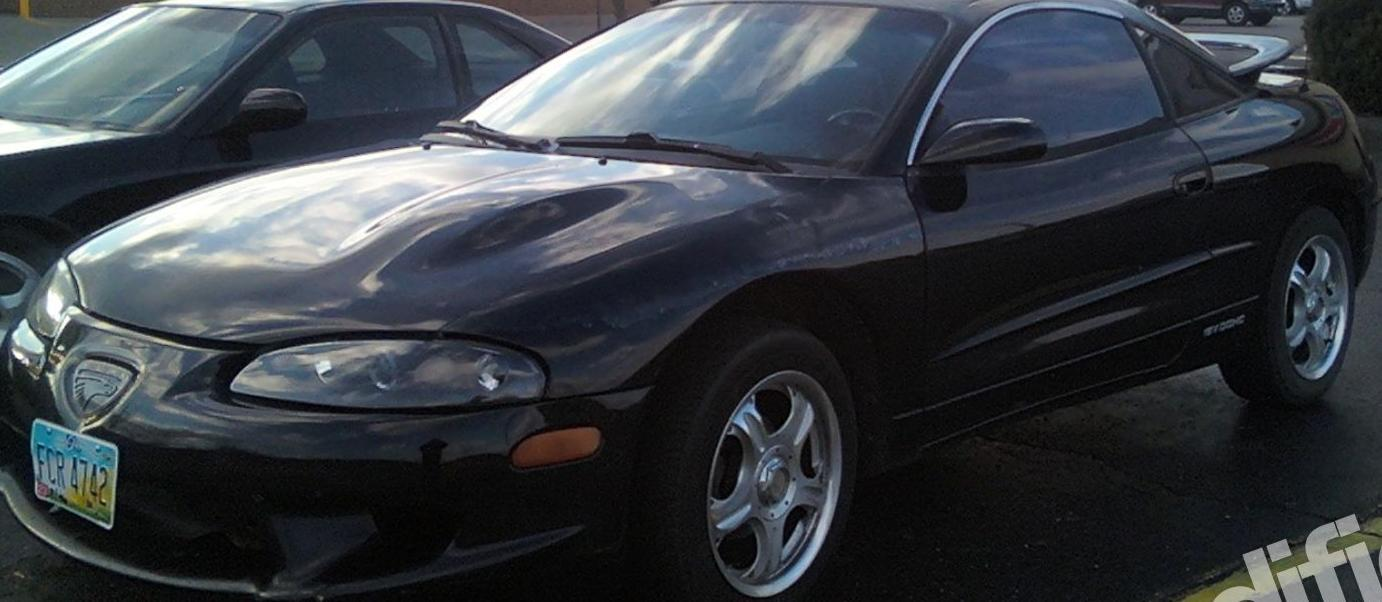front_view: (8, 259, 606, 564)
headlight: (215, 302, 550, 468)
side_glass: (889, 4, 1178, 167)
